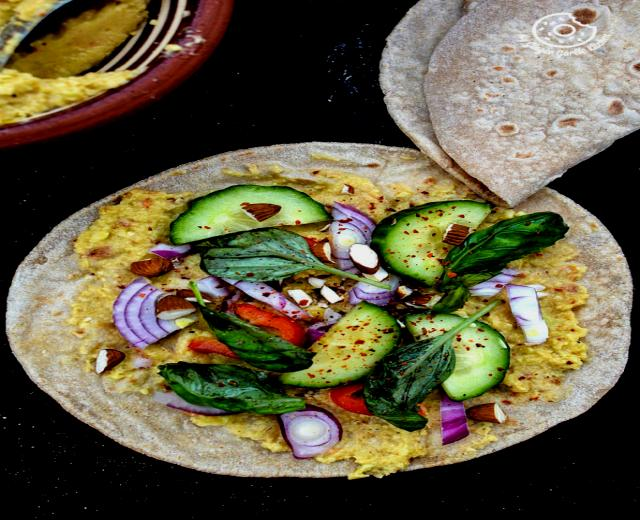chapati: (11, 0, 639, 477)
